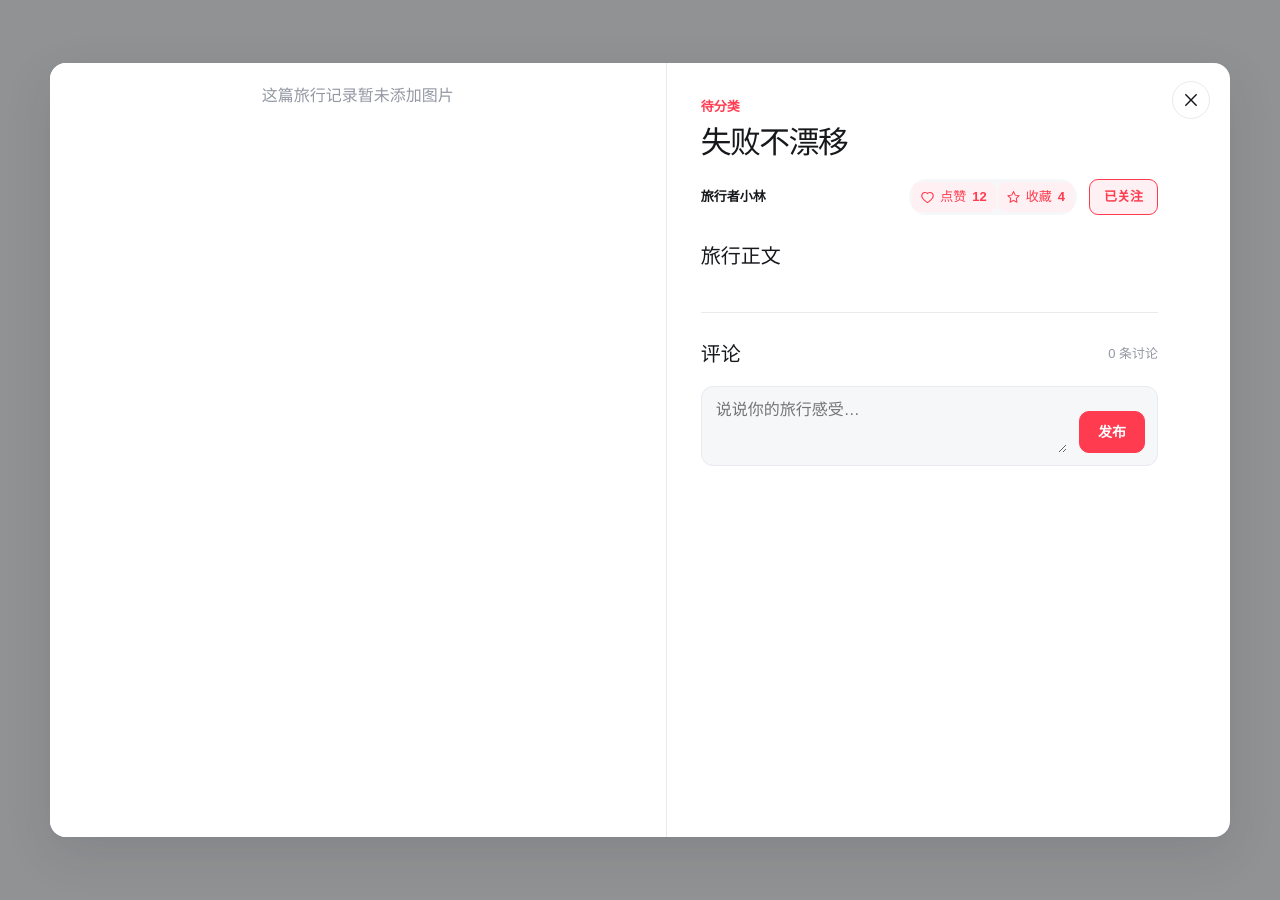
Test: 帖子详情 › 收藏 写入失败时保留服务端读取状态且展示局部错误
The image size is (1280, 900).
Click the button with aria-label "收藏".
click(1036, 197)  # box [998,182,1074,212]
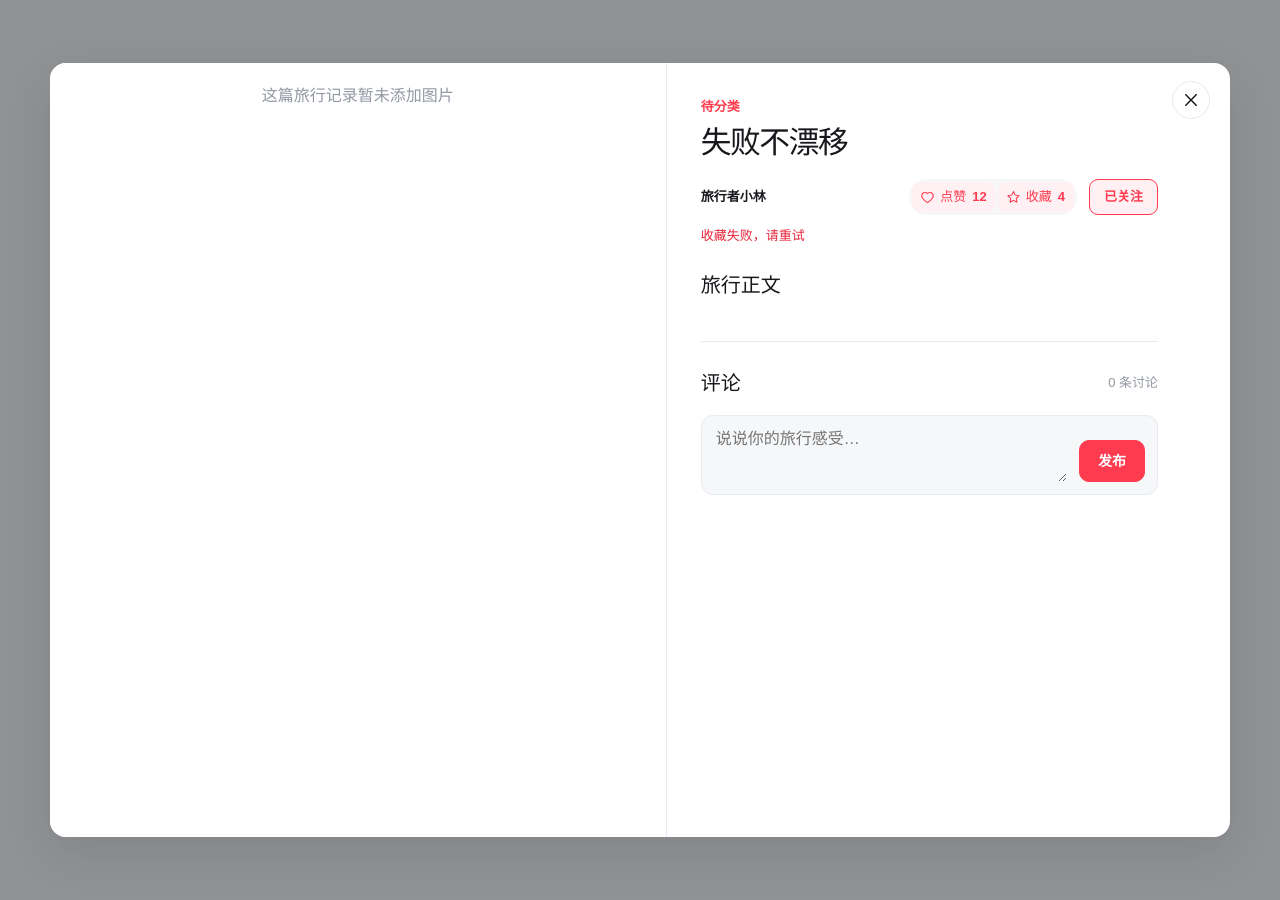
Expected: the message "收藏失败，请重试" is shown, [701,228,805,243]
